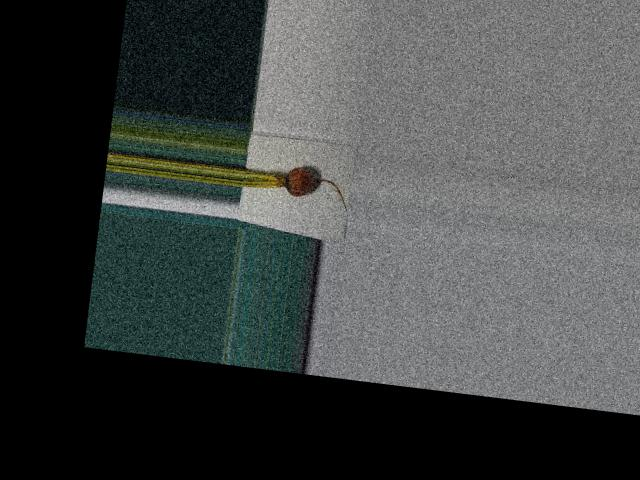beet: (240, 160, 351, 210)
